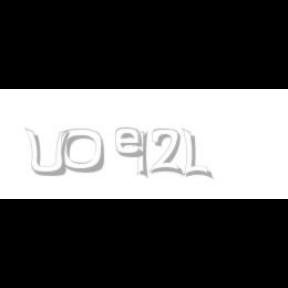2: (148, 128, 182, 176)
L: (182, 128, 210, 180)
O: (60, 128, 106, 174)
U: (24, 128, 70, 178)
e: (115, 128, 148, 158)
l: (136, 128, 152, 180)
